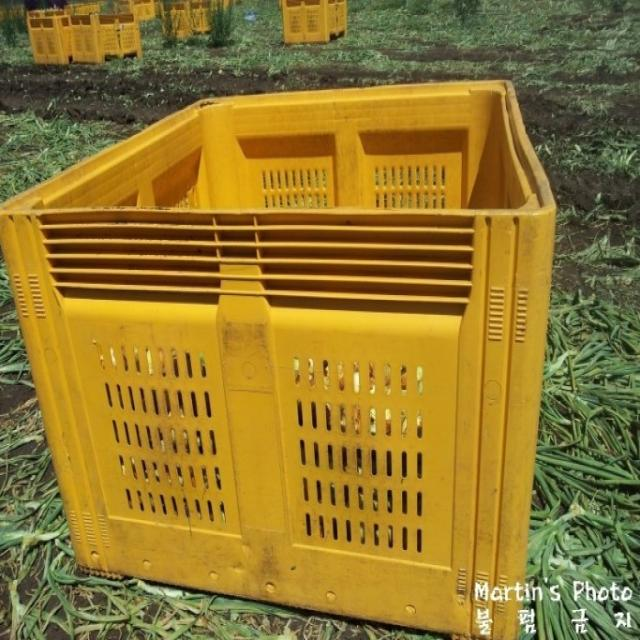basket: (0, 43, 566, 640)
